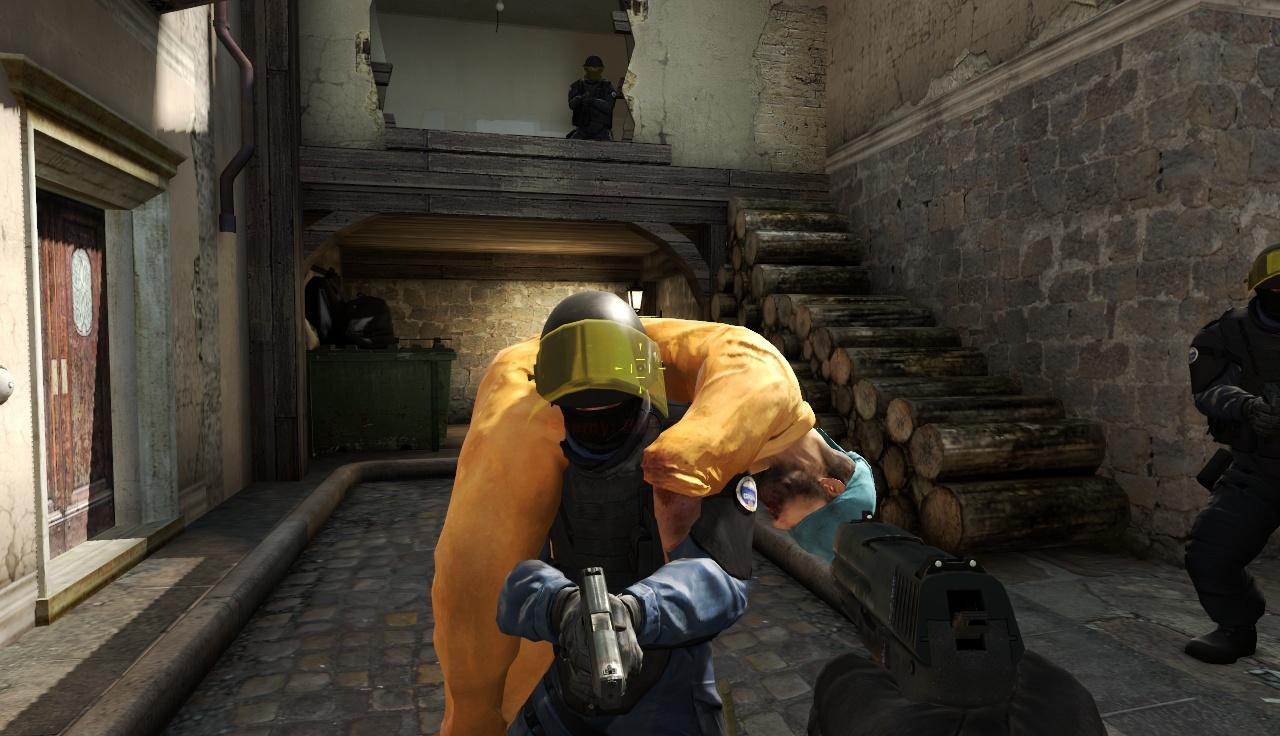ct: (500, 293, 725, 736), (1180, 249, 1280, 660), (566, 54, 618, 141)
cthead: (538, 295, 663, 450), (1247, 247, 1280, 318), (582, 56, 603, 80)
pistol: (822, 512, 1037, 736)
